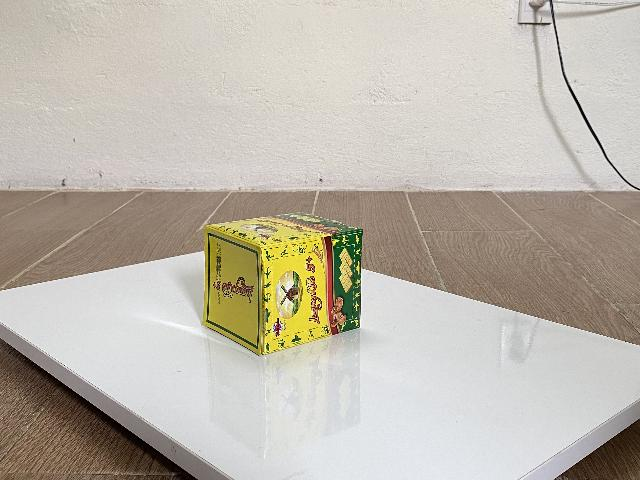luong_kho: (201, 212, 363, 356)
